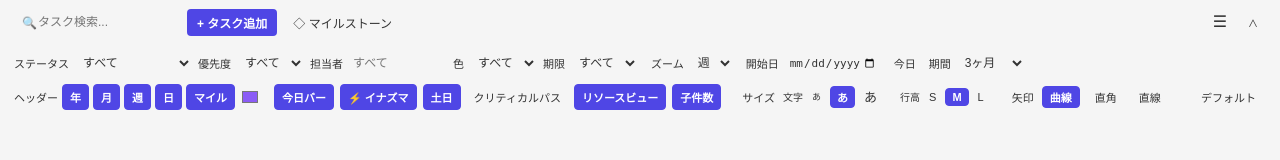
Toolbar 2段レイアウト › ∧ボタン（aria-label="ガント設定を閉じる"）をクリックすると行2が非表示になる
Click the button named "ガント設定を閉じる": x=1253, y=22 x1=1240 y1=10 x2=1266 y2=34
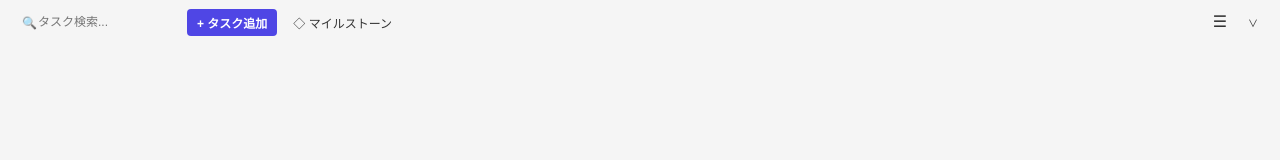
expect the element with test id "toolbar-row2" is gone: met
